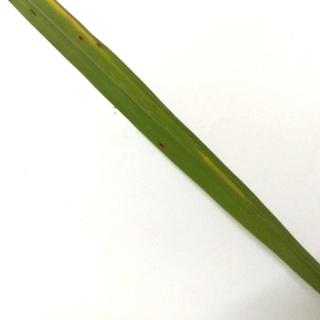bercak-Cokelat: (150, 136, 172, 156), (22, 2, 42, 23), (89, 39, 106, 52), (75, 32, 88, 44)
